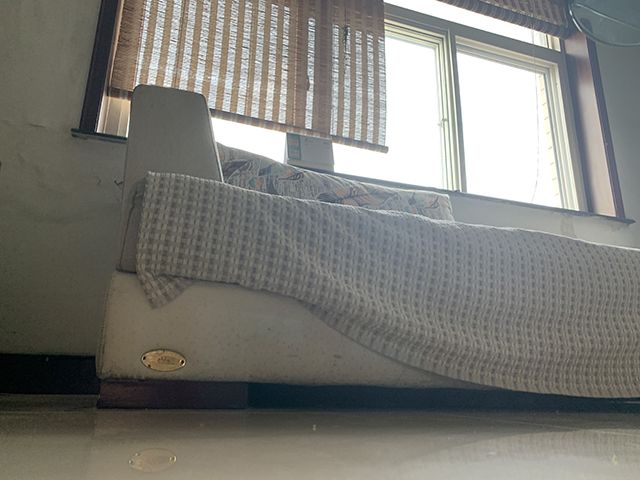bed: (93, 83, 640, 410)
